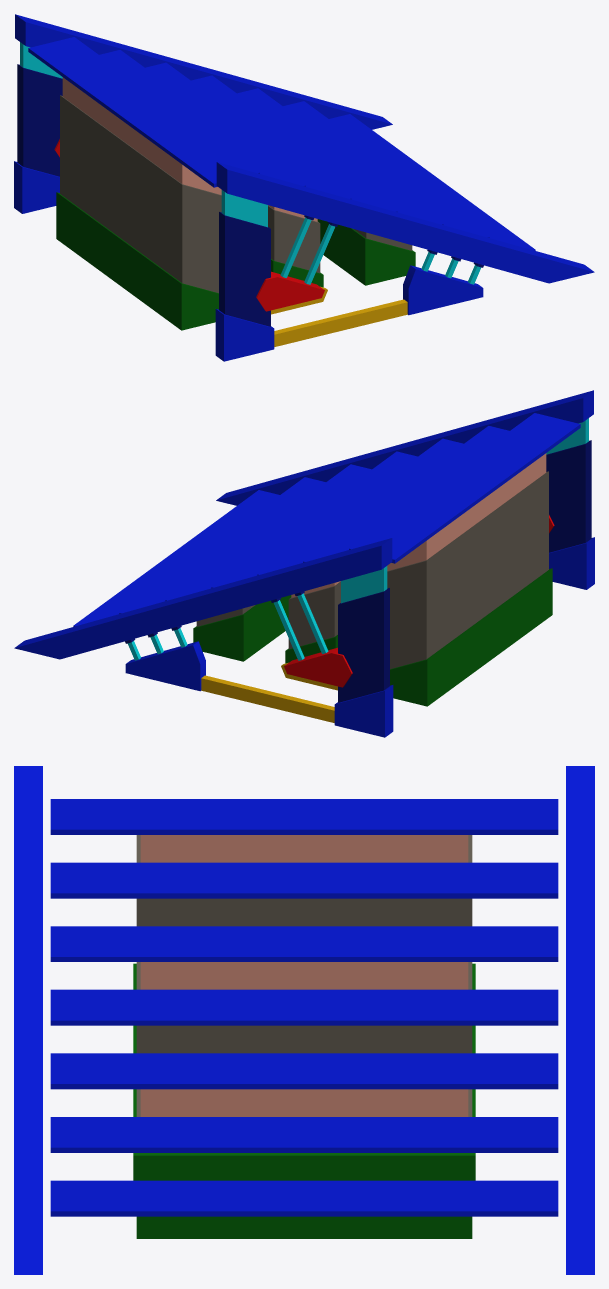
Rendered from BT_Slope_A_01.fbx.
3 renders of one model, top to bottom at view 1: azimuth 30°, elevation 25°; view 2: azimuth 150°, elevation 25°; view 3: azimuth 270°, elevation 25°, orthographic. The views are drawn at different scales.
Parts seen in each view (by area): view 1: BT_Slope_A_01; view 2: BT_Slope_A_01; view 3: BT_Slope_A_01.
Part boxes in pixels (box(x1,y1,x2,y2)): BT_Slope_A_01: box(14, 14, 594, 361); BT_Slope_A_01: box(14, 390, 594, 737); BT_Slope_A_01: box(14, 766, 594, 1274).
Size of what is drawn, in the model's own units: 201 by 100 by 200.
